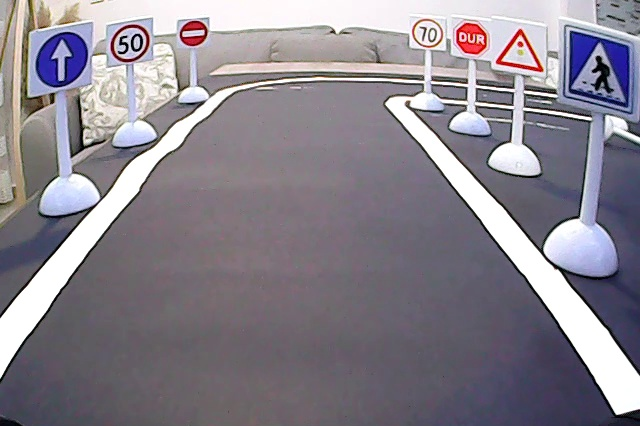do not enter: (177, 20, 207, 47)
pedestrian crossing: (559, 18, 636, 119)
red light: (494, 18, 547, 76)
speed limit 50: (107, 20, 154, 62)
speed limit 70: (408, 14, 446, 51)
stop sign: (451, 15, 490, 59)
